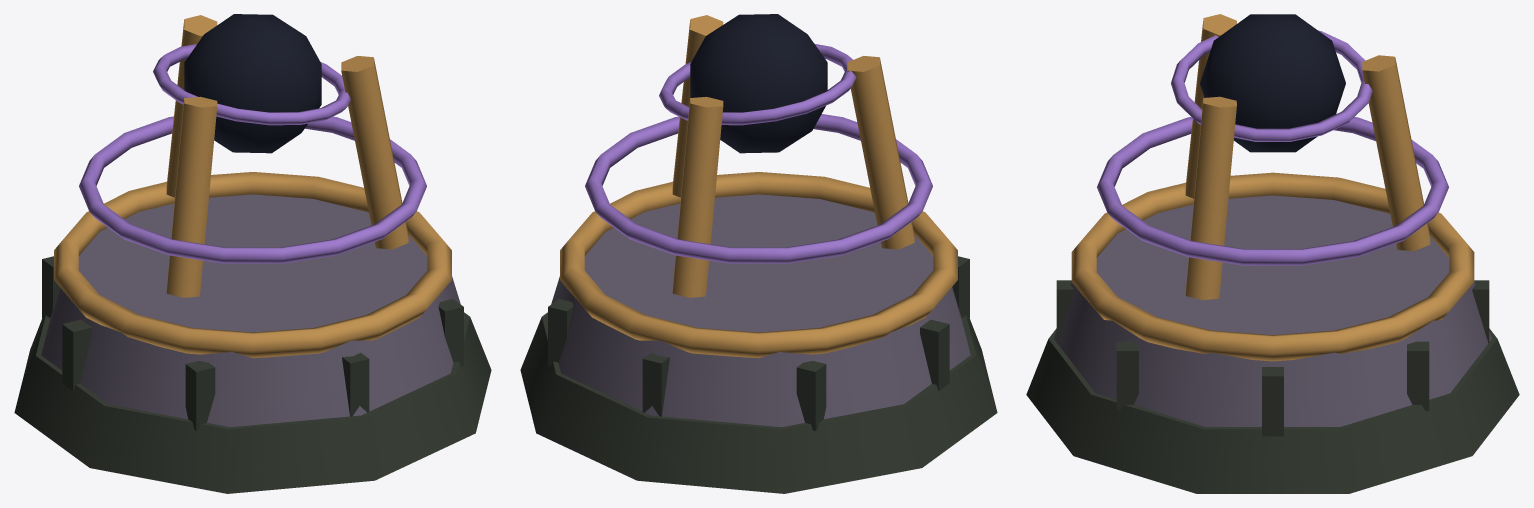
Rendered from tower_gravity_gravityResonator.glb.
The picture shows the model from 3 angles, left to right: view 1: azimuth 30°, elevation 25°; view 2: azimuth 150°, elevation 25°; view 3: azimuth 270°, elevation 25°; orthographic projection.
Visible parts, largest first — view 1: stone_1, foot_0, rim_2, black_hole_11, pulse_16, claw_14, claw_13, accretion_15, claw_12, mortar_6, mortar_7, mortar_5 (+2 smaller); view 2: stone_1, foot_0, rim_2, black_hole_11, pulse_16, claw_12, claw_14, accretion_15, claw_13, mortar_8, mortar_7, mortar_9 (+2 smaller); view 3: stone_1, foot_0, rim_2, black_hole_11, pulse_16, claw_13, claw_12, accretion_15, claw_14, mortar_3, mortar_4, mortar_10 (+2 smaller).
Part boxes in pixels (<box>): stone_1: <box>41,194,464,427</box>; foot_0: <box>14,312,491,493</box>; rim_2: <box>54,172,451,358</box>; black_hole_11: <box>184,14,321,153</box>; pulse_16: <box>79,116,426,263</box>; claw_14: <box>166,96,217,297</box>; claw_13: <box>341,56,408,249</box>; accretion_15: <box>153,44,350,125</box>; claw_12: <box>166,15,217,197</box>; mortar_6: <box>185,361,215,431</box>; mortar_7: <box>62,319,91,391</box>; mortar_5: <box>342,352,369,416</box>; stone_1: <box>547,194,970,427</box>; foot_0: <box>520,312,997,493</box>; rim_2: <box>560,172,957,358</box>; black_hole_11: <box>690,14,827,153</box>; pulse_16: <box>585,114,932,263</box>; claw_12: <box>672,96,723,297</box>; claw_14: <box>847,56,914,249</box>; accretion_15: <box>659,43,856,125</box>; claw_13: <box>672,15,723,197</box>; mortar_8: <box>796,361,826,431</box>; mortar_7: <box>920,319,949,391</box>; mortar_9: <box>642,352,669,416</box>; stone_1: <box>1054,195,1491,426</box>; foot_0: <box>1026,328,1519,493</box>; rim_2: <box>1071,172,1474,361</box>; black_hole_11: <box>1200,14,1345,152</box>; pulse_16: <box>1097,117,1448,265</box>; claw_13: <box>1185,96,1236,299</box>; claw_12: <box>1362,55,1430,251</box>; accretion_15: <box>1171,30,1372,141</box>; claw_14: <box>1185,14,1236,198</box>; mortar_3: <box>1262,367,1283,436</box>; mortar_4: <box>1116,341,1138,410</box>; mortar_10: <box>1407,341,1429,410</box>.
Size of the model in its own units: 0.5326 by 0.473 by 0.56.
